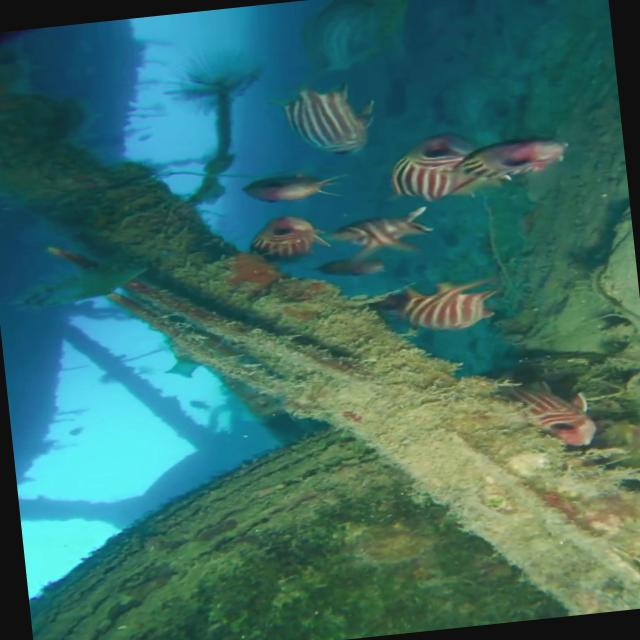Asker Baligi: (374, 122, 482, 220), (266, 78, 376, 172)
